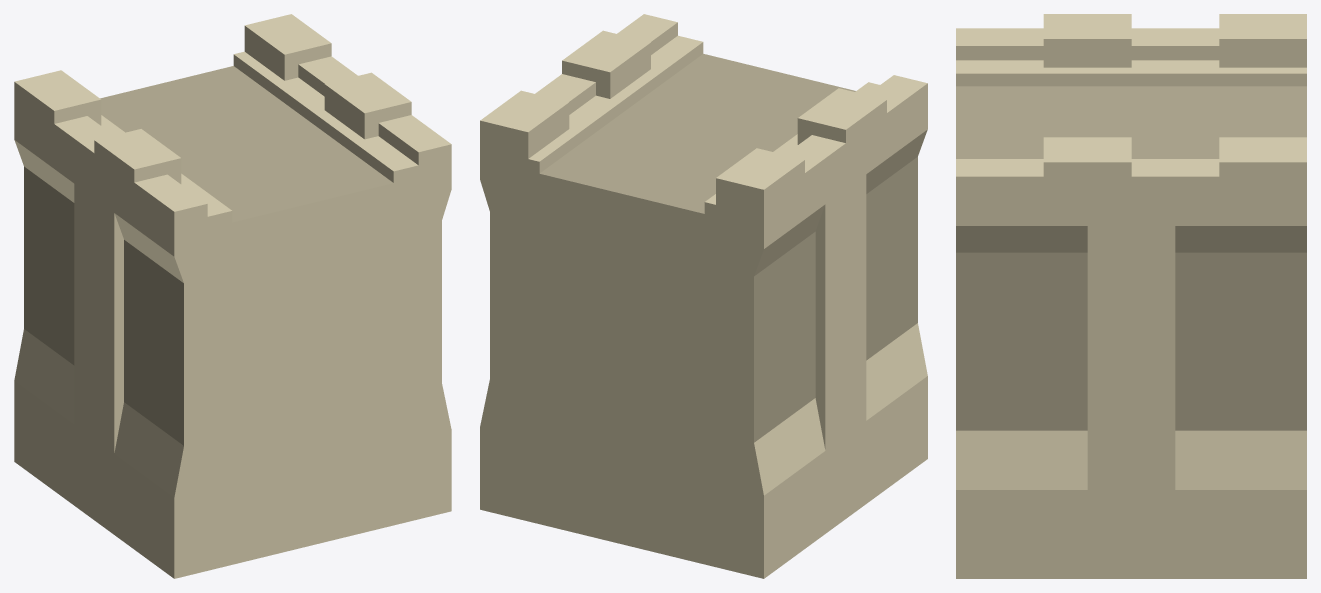
The model's file is wallPillar.fbx.
3 views of the same model, side by side, from view 1: azimuth 30°, elevation 25°; view 2: azimuth 150°, elevation 25°; view 3: azimuth 270°, elevation 25° (orthographic). The views are drawn at different scales.
Parts seen in each view (by area): view 1: wallPillar; view 2: wallPillar; view 3: wallPillar.
Boxes of the visible parts, <box> form: wallPillar: <box>14,14,451,578</box>; wallPillar: <box>480,14,927,578</box>; wallPillar: <box>956,14,1306,578</box>.
Size of the model in its own units: 10 by 13.1 by 10.
